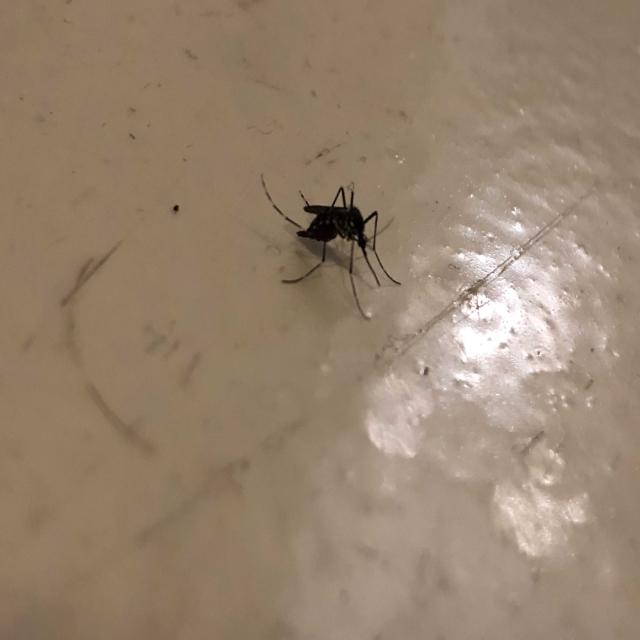albopictus: (258, 164, 404, 319)
